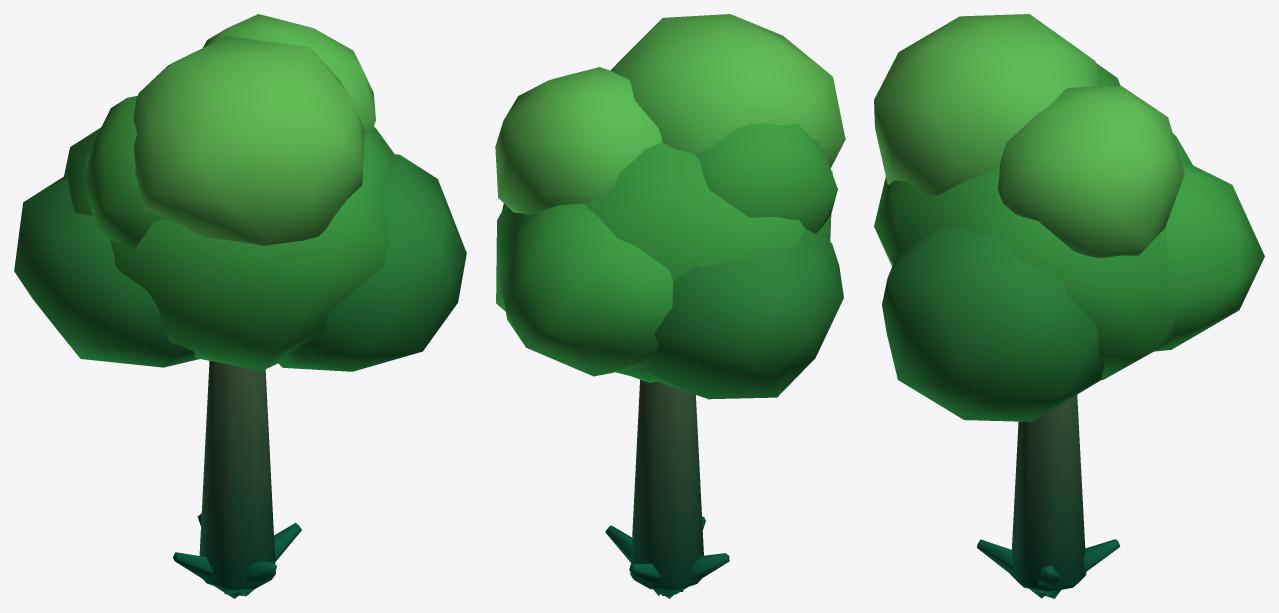
File: tree.glb
The picture shows the model from 3 angles, left to right: view 1: azimuth 30°, elevation 25°; view 2: azimuth 150°, elevation 25°; view 3: azimuth 270°, elevation 25°; orthographic projection. The views are drawn at different scales.
Visible parts, largest first — view 1: tree; view 2: tree; view 3: tree.
Boxes of the visible parts, x1,y1,x2,y2 form: tree: [14, 14, 466, 598]; tree: [495, 14, 845, 598]; tree: [874, 14, 1264, 598].
Bounding box in the file's own units: 2.52 × 3.69 × 2.34.
